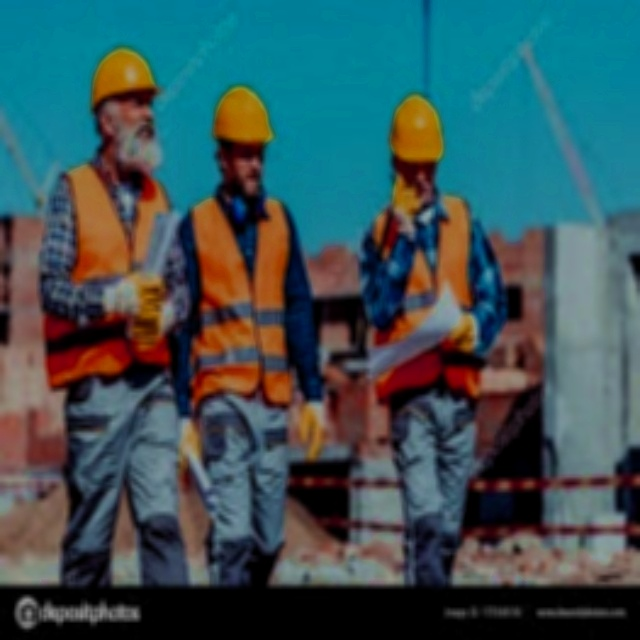Con_Casco: (214, 85, 273, 186), (393, 92, 442, 190)
Con_Chaleco: (184, 195, 294, 401), (57, 173, 173, 367)
